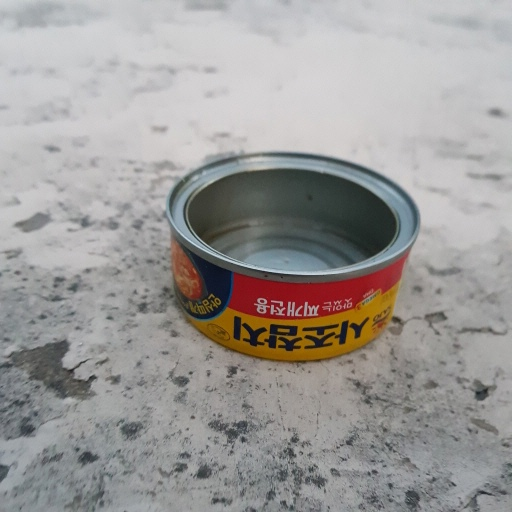Metal_1: (165, 150, 421, 362)
